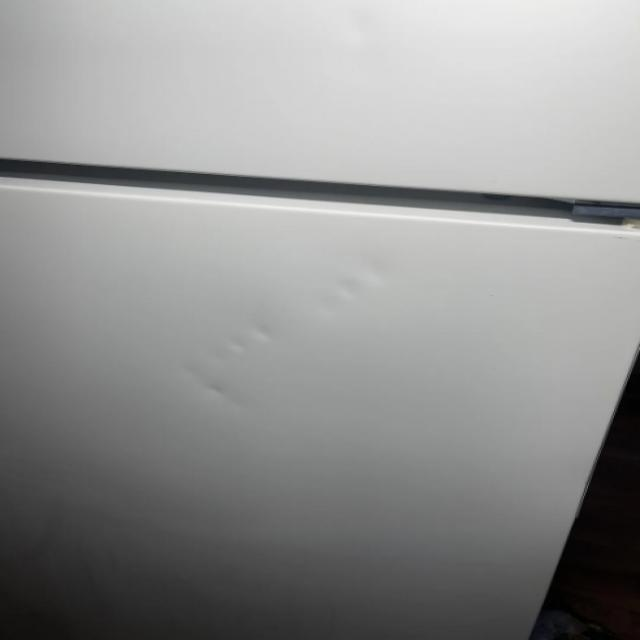dents: (186, 300, 274, 462), (308, 239, 413, 347)
